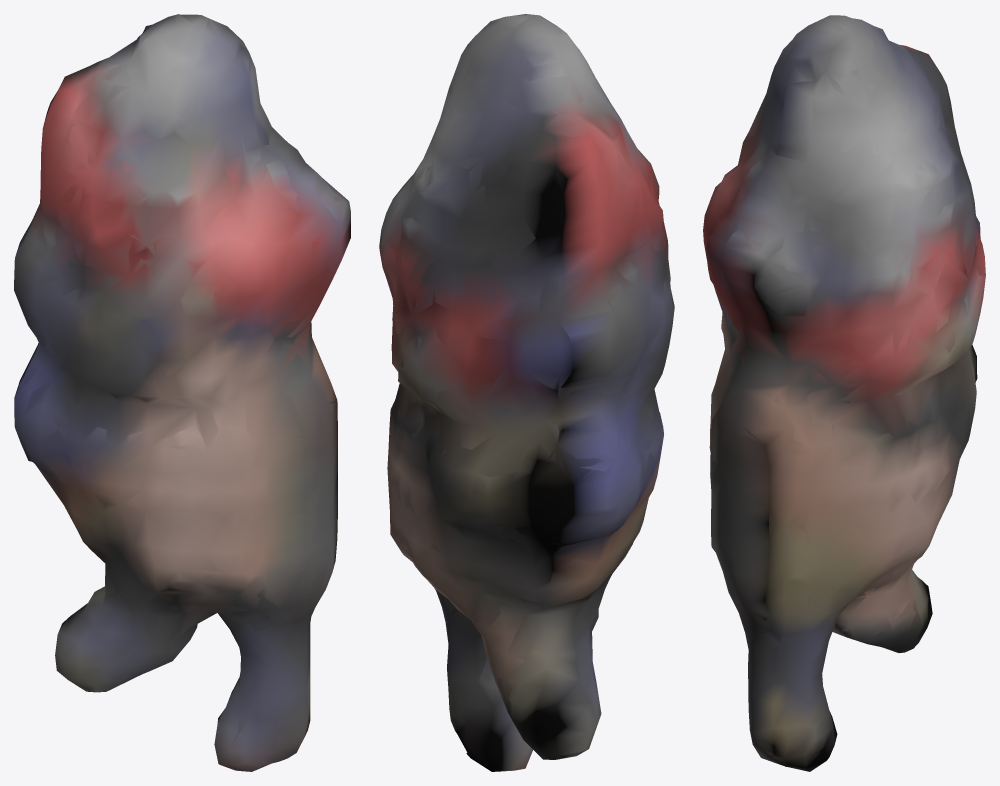
File: soviet_conscript.glb
3 views of the same model, side by side, from view 1: azimuth 30°, elevation 25°; view 2: azimuth 150°, elevation 25°; view 3: azimuth 270°, elevation 25° (orthographic). The views are drawn at different scales.
Parts seen in each view (by area): view 1: soviet_conscript; view 2: soviet_conscript; view 3: soviet_conscript.
Part boxes in pixels (x1,y1,x2,y2): soviet_conscript: [14, 14, 350, 771]; soviet_conscript: [379, 14, 674, 771]; soviet_conscript: [703, 15, 985, 771].
Size of the model in its own units: 0.8432 by 2.23 by 0.7847.
